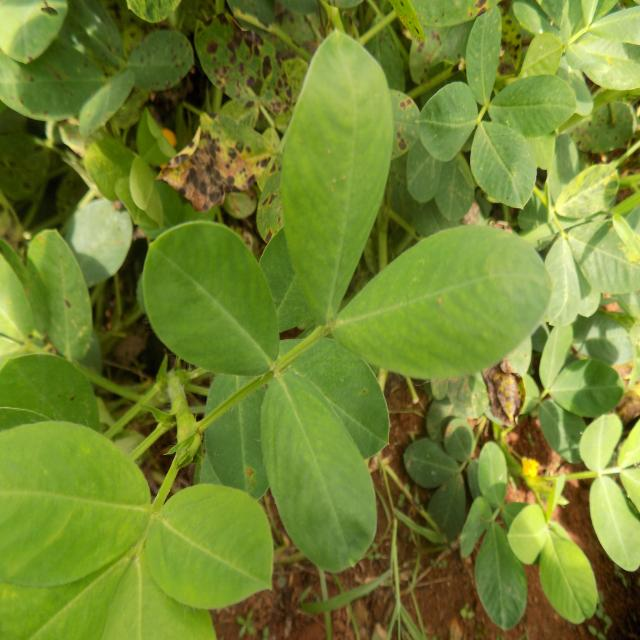Ground nut_healthy: (274, 25, 392, 320), (334, 228, 557, 378), (260, 365, 386, 567), (140, 476, 280, 608)
